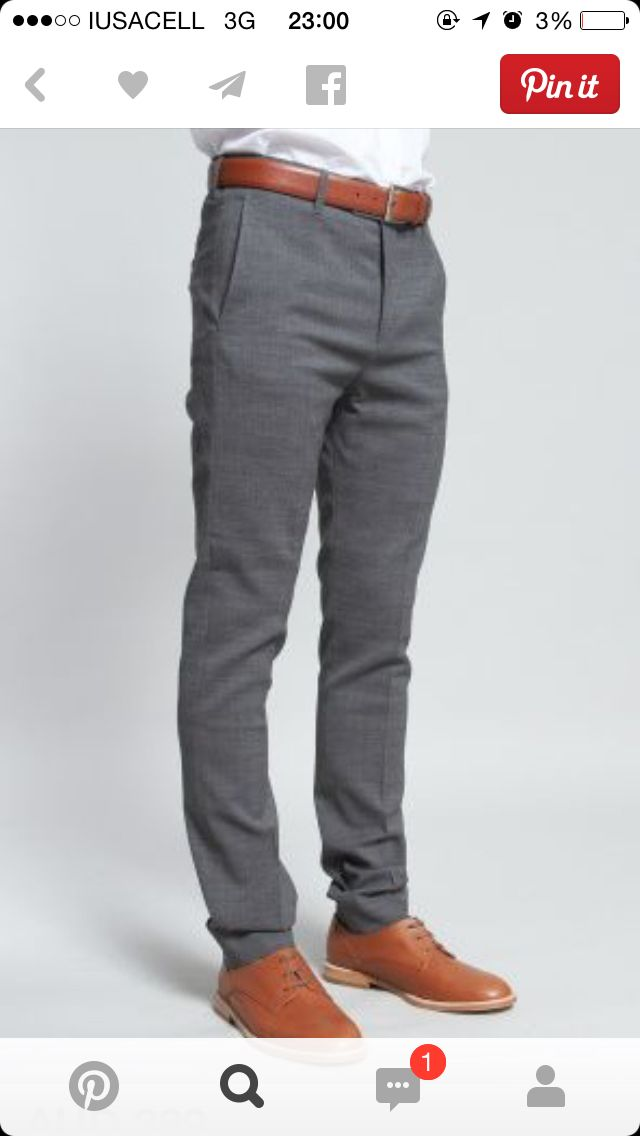F_belt: (183, 146, 458, 239)
F_dress pants: (180, 170, 416, 930)
